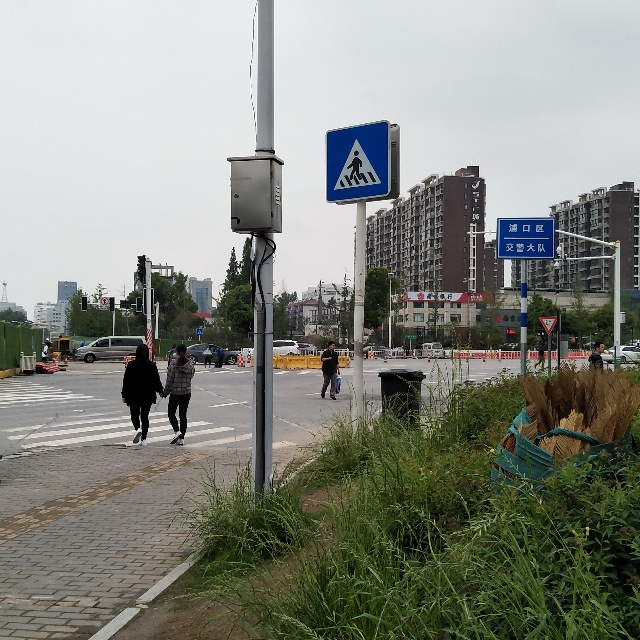crosswalk: (323, 118, 399, 210)
